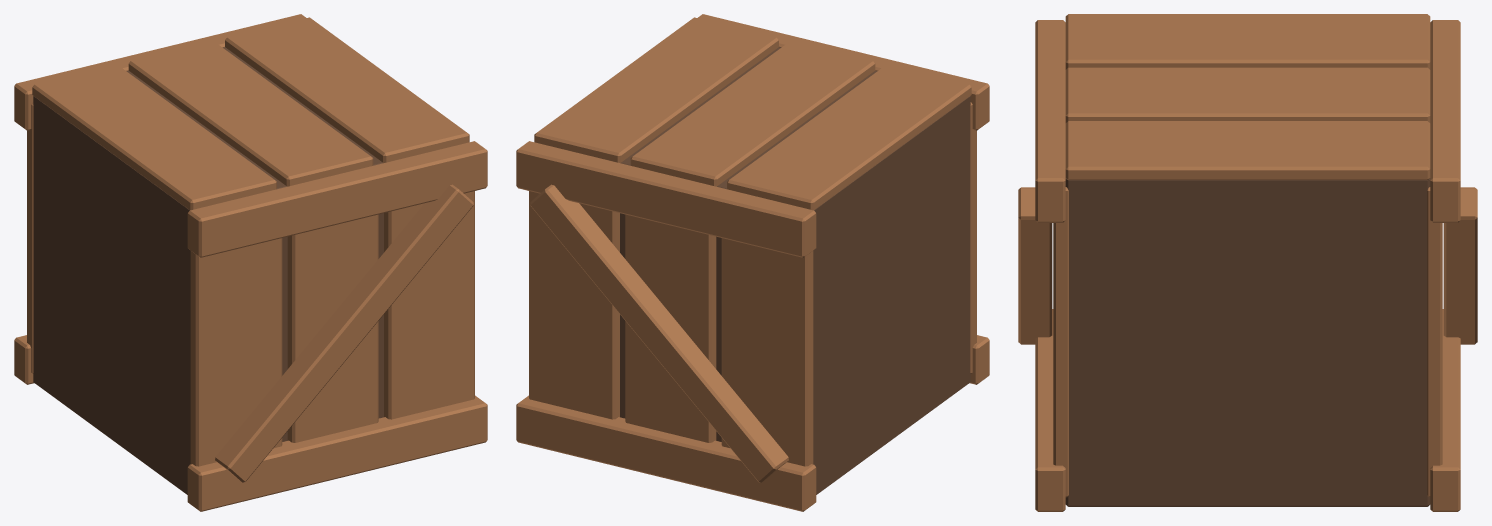
File: wood_crate_medium_01.glb
The picture shows the model from 3 angles, left to right: view 1: azimuth 30°, elevation 25°; view 2: azimuth 150°, elevation 25°; view 3: azimuth 270°, elevation 25°; orthographic projection. The views are drawn at different scales.
Visible parts, largest first — view 1: wood_crate_medium_01; view 2: wood_crate_medium_01; view 3: wood_crate_medium_01.
Part boxes in pixels (box(x1,y1,x2,y2)): wood_crate_medium_01: box(14, 14, 487, 511); wood_crate_medium_01: box(516, 14, 989, 511); wood_crate_medium_01: box(1018, 14, 1477, 511).
Size of the model in its own units: 0.55 by 0.5472 by 0.6655.
